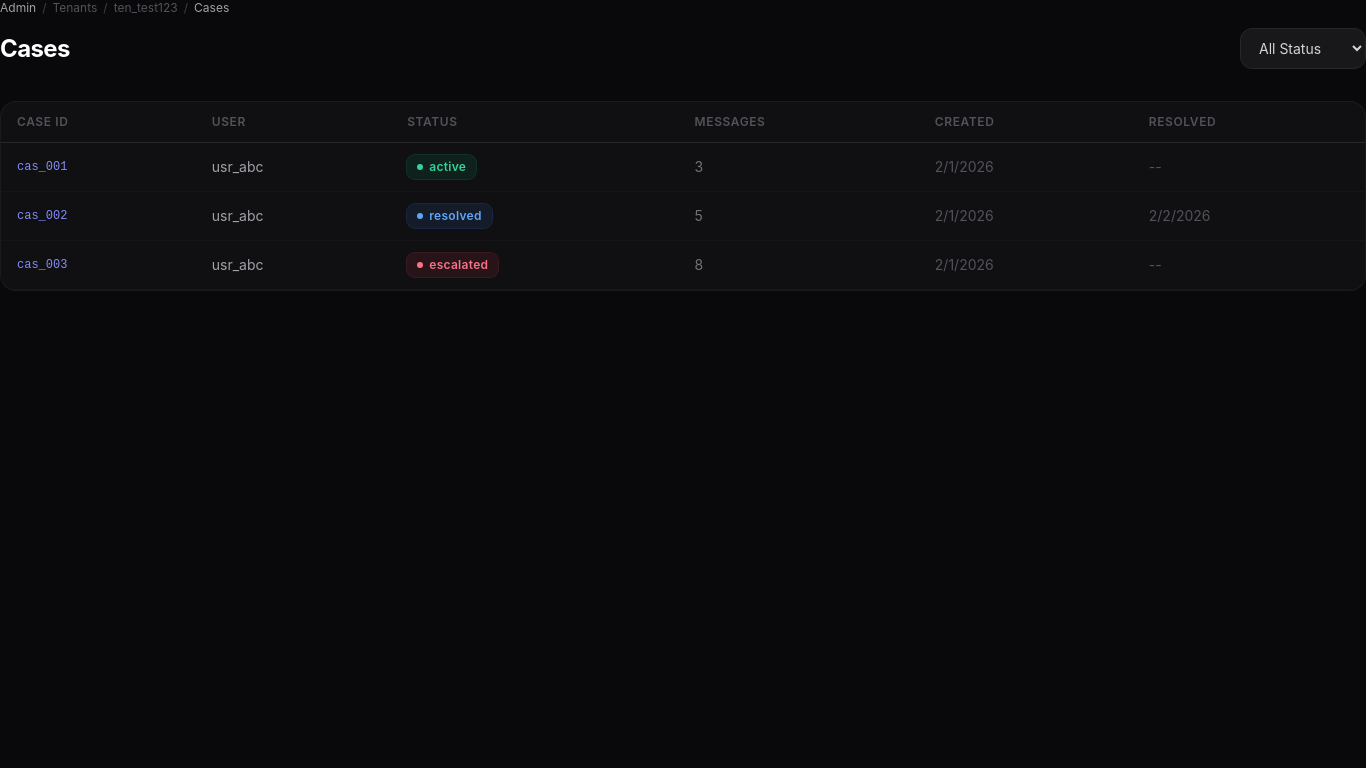
Cases Browser › shows case detail on row click
What coordinates should you click on to do the following:
click the text "cas_001"
I would click on:
 (42, 167)
Its box is x1=1 y1=142 x2=196 y2=192.
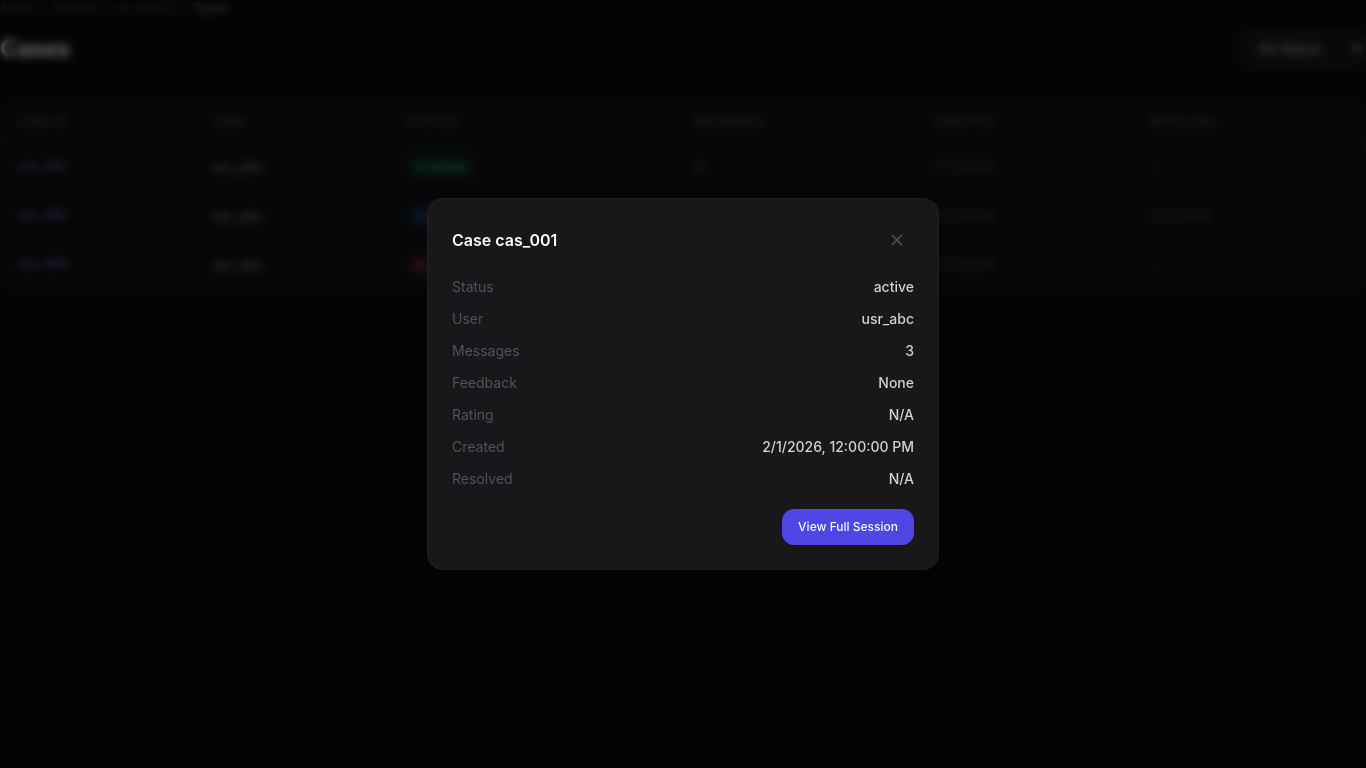
Result: the heading "Case cas_001" is shown at x1=452 y1=228 x2=557 y2=252
